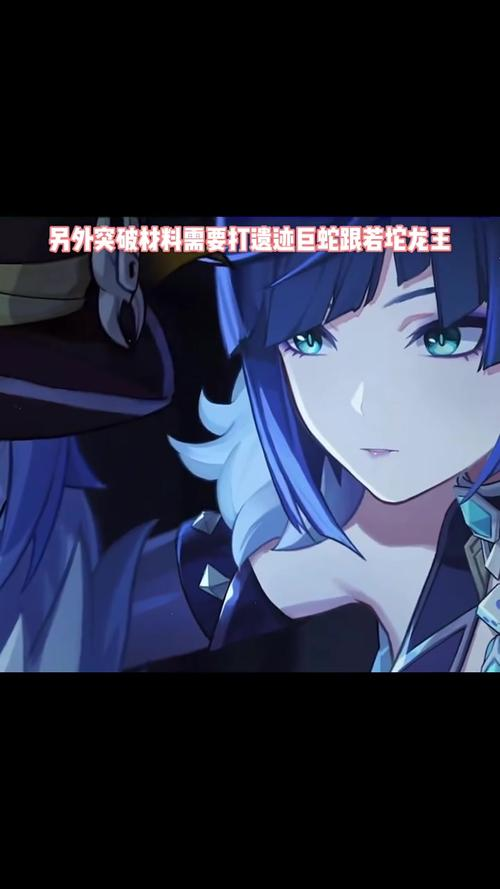夜兰: (88, 219, 498, 674)
